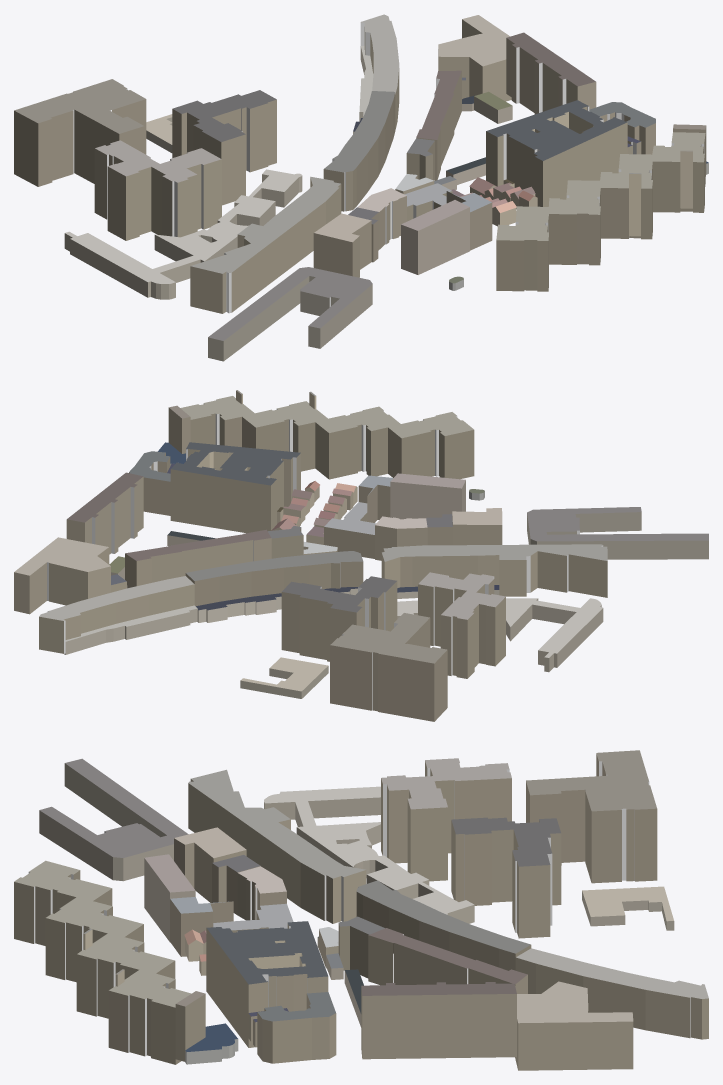
The picture shows the model from 3 angles, top to bottom: view 1: azimuth 30°, elevation 25°; view 2: azimuth 150°, elevation 25°; view 3: azimuth 270°, elevation 25°; orthographic projection. The views are drawn at different scales.
Parts seen in each view (by area): view 1: tuile; view 2: tuile; view 3: tuile.
Part boxes in pixels (x1,y1,x2,y2): tuile: (14,14,708,361); tuile: (14,390,708,721); tuile: (14,750,708,1070).
Size of the model in its own units: 323 by 50.02 by 314.
